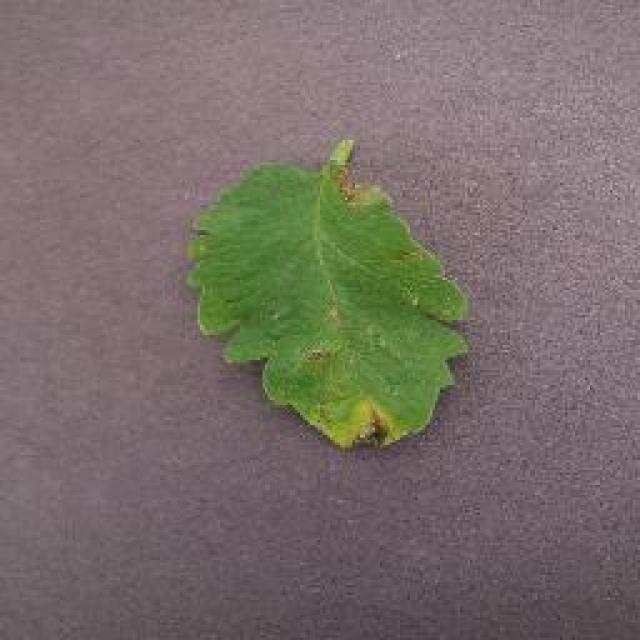Tomato late blight leaf: (185, 165, 470, 447)
